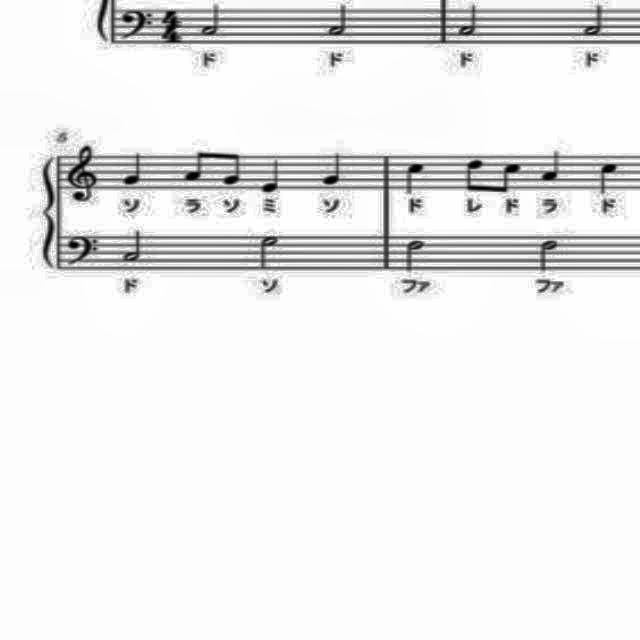Bass-clef: (59, 228, 105, 268), (119, 6, 157, 46)
Eighth-note: (179, 138, 209, 186), (495, 156, 525, 198), (220, 146, 246, 190), (464, 152, 488, 196)
Half-note: (256, 230, 288, 278), (321, 1, 357, 39), (198, 0, 229, 40), (579, 2, 609, 38), (535, 236, 561, 276), (121, 231, 147, 269), (456, 1, 482, 38), (404, 236, 428, 276)
Quarter-note: (119, 149, 151, 187), (593, 160, 621, 198), (320, 150, 346, 190), (537, 147, 563, 185), (402, 162, 430, 196), (260, 158, 284, 196)
Treble-clef: (66, 143, 100, 204)
